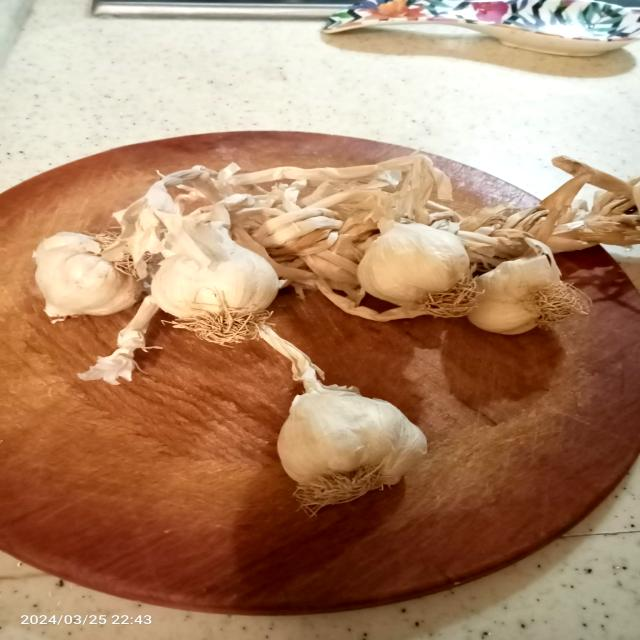garlic: (260, 371, 454, 507), (135, 206, 296, 349), (337, 209, 496, 324)
